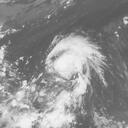cyclone: (45, 35, 96, 81)
